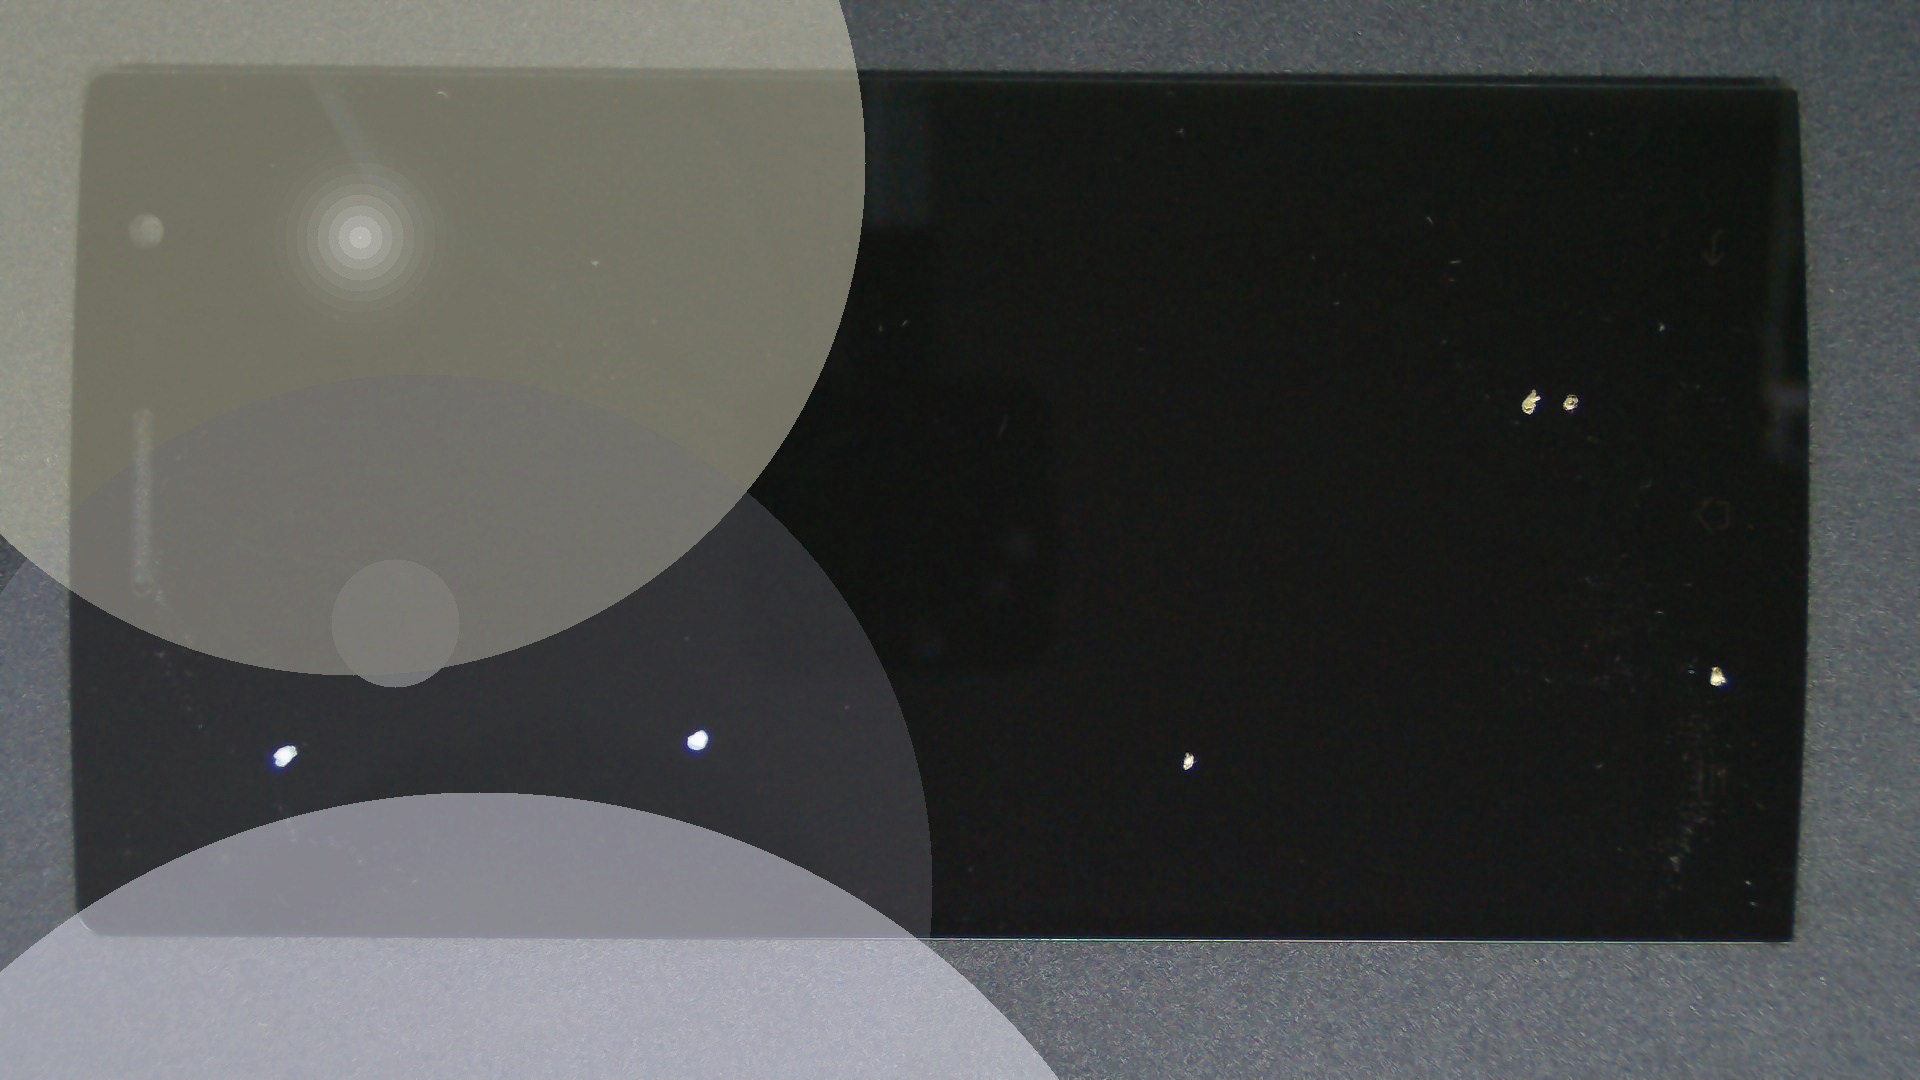oil: (593, 375, 1778, 1080), (857, 331, 1920, 998), (349, 364, 1047, 1080), (785, 195, 1920, 591), (767, 194, 1920, 583), (145, 372, 433, 1080)
